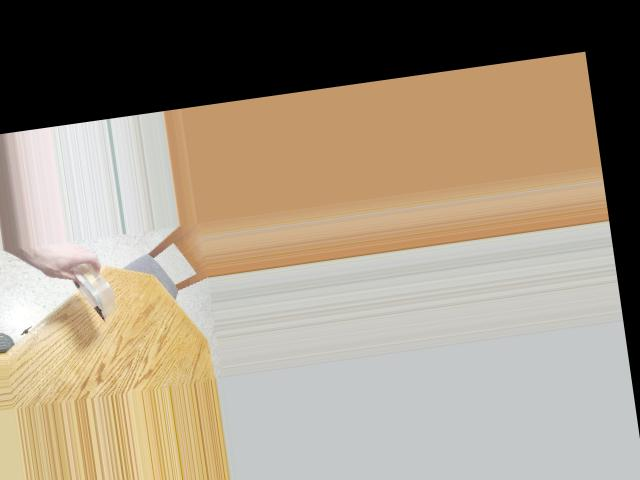cheese: (70, 256, 118, 322)
